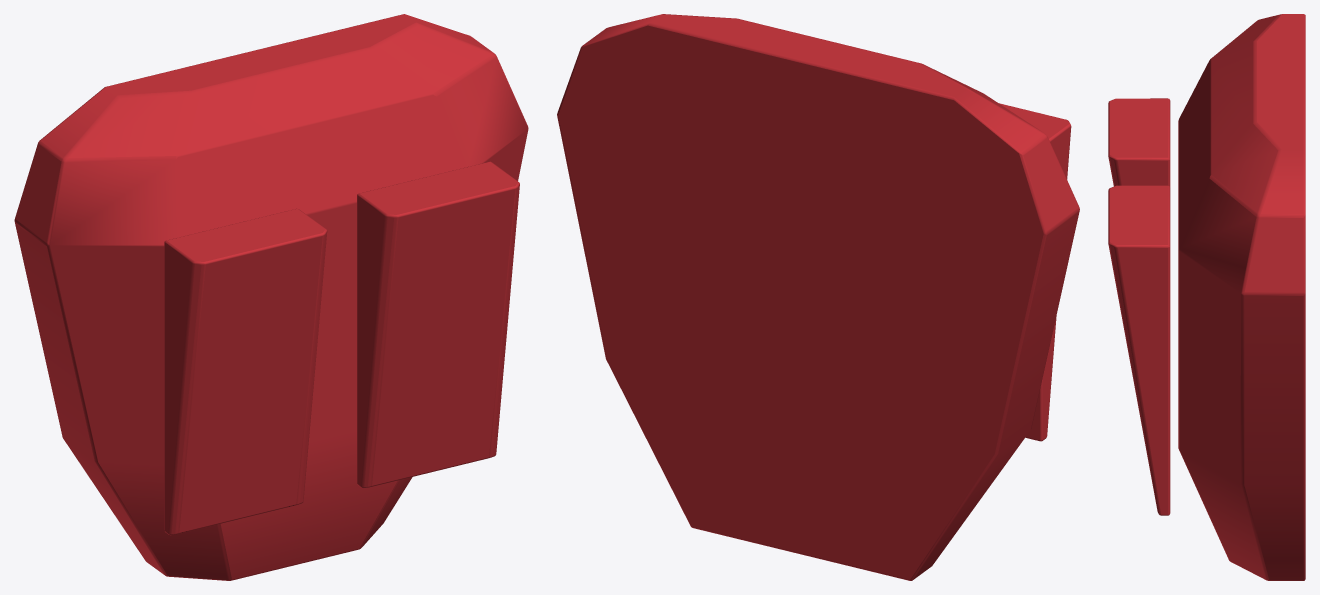
File: HeadBack_Set05_Afterburn.fbx
The picture shows the model from 3 angles, left to right: view 1: azimuth 30°, elevation 25°; view 2: azimuth 150°, elevation 25°; view 3: azimuth 270°, elevation 25°; orthographic projection. The views are drawn at different scales.
Parts seen in each view (by area): view 1: HeadBack_Set05_Afterburn; view 2: HeadBack_Set05_Afterburn; view 3: HeadBack_Set05_Afterburn.
Part boxes in pixels (box(x1,y1,x2,y2)): HeadBack_Set05_Afterburn: box(14, 14, 528, 580); HeadBack_Set05_Afterburn: box(557, 14, 1079, 580); HeadBack_Set05_Afterburn: box(1108, 14, 1305, 580).
Size of the model in its own units: 0.5593 by 0.54 by 0.2141.
